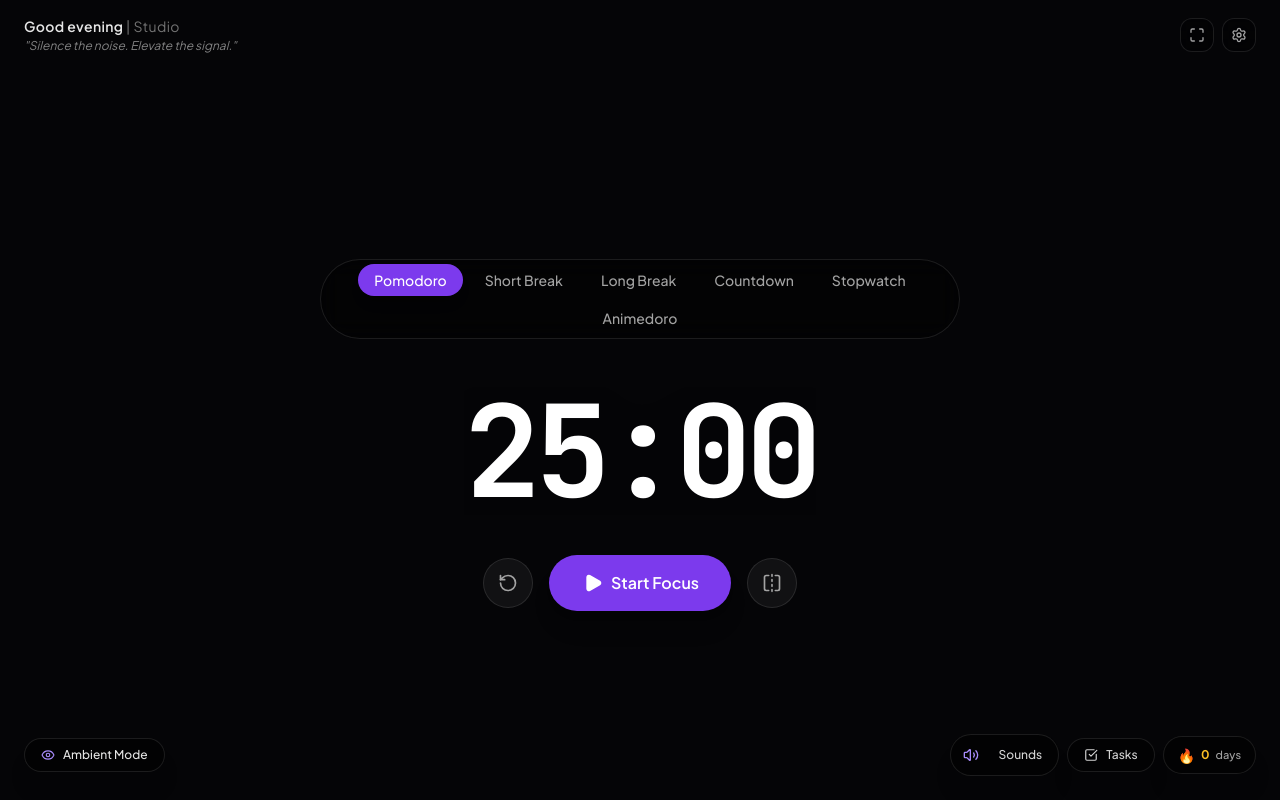
Test: App Root Integration Tests › toggles mode from Focus to Ambient and displays mini timer
Click the text "Ambient Mode": (105, 755) 63,747 -> 148,763
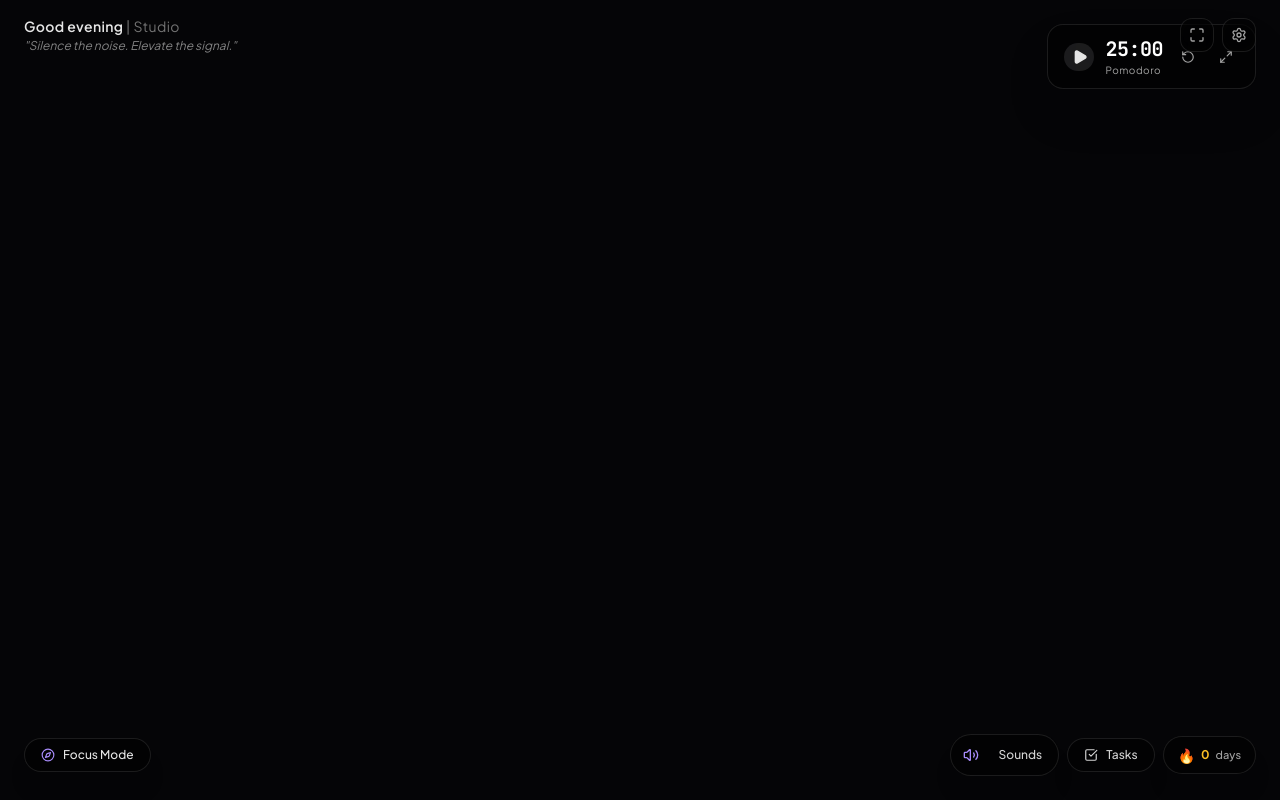
Now the text "Focus Mode" is shown, box 63,747 -> 134,763
